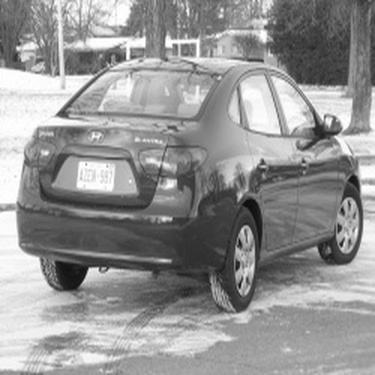car: (1, 38, 363, 306)
